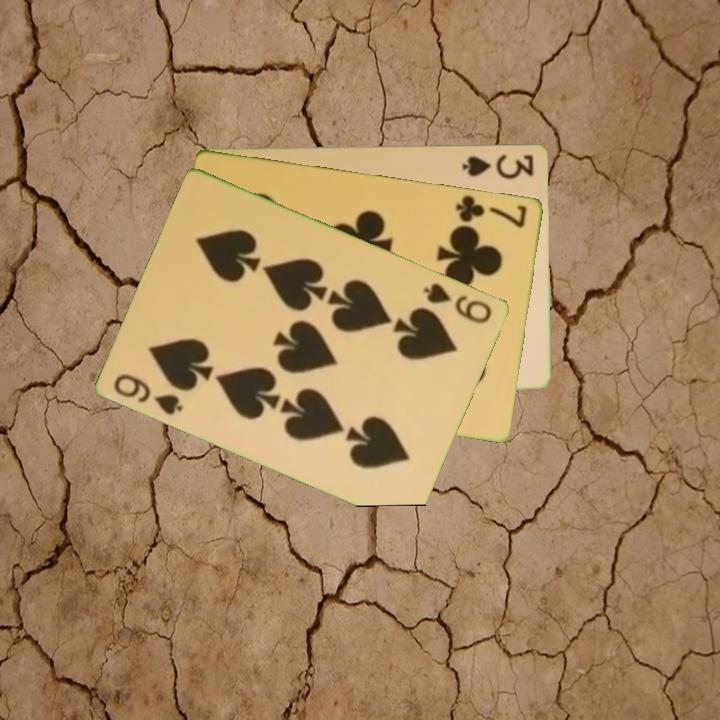3s: (459, 150, 537, 181)
7c: (452, 191, 530, 231)
9s: (110, 369, 187, 418), (420, 279, 496, 327)
